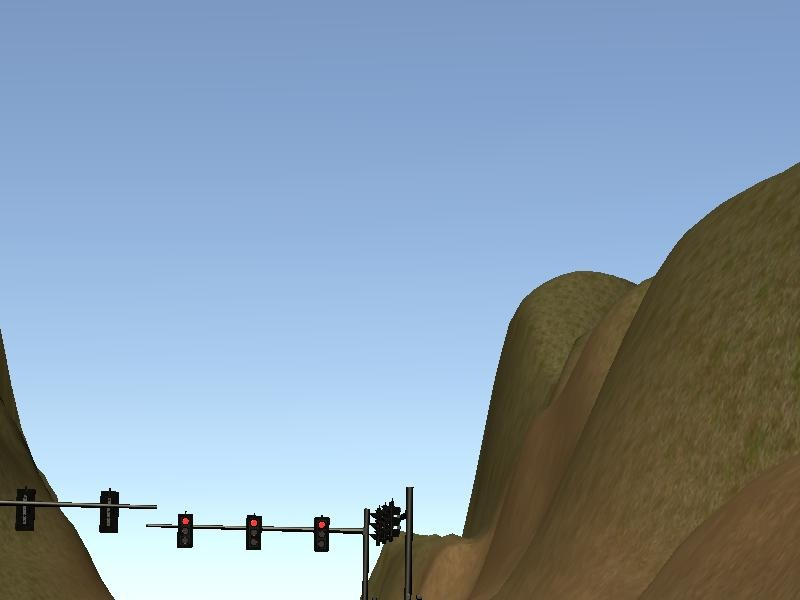red: (243, 511, 263, 550), (177, 511, 196, 552), (313, 514, 330, 558)
